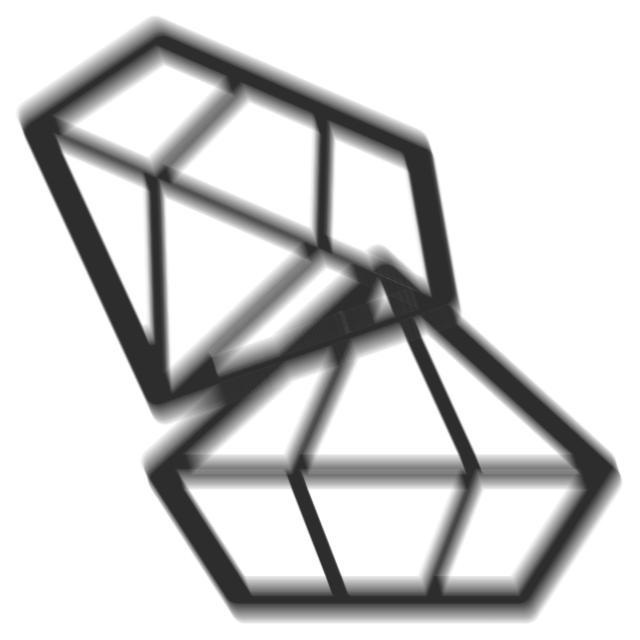diamond: (132, 243, 622, 632), (13, 11, 465, 432)
